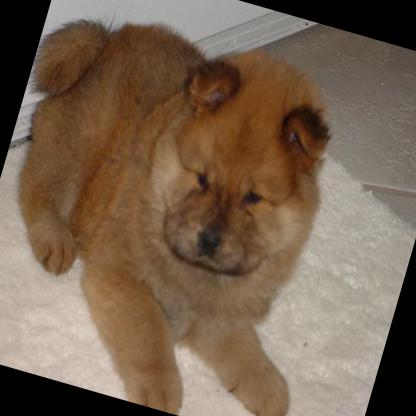chow: (0, 0, 380, 416)
